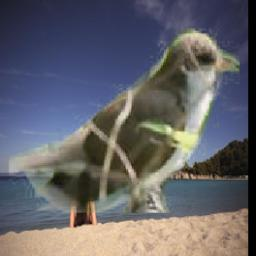Cuckoo: (9, 28, 240, 213)
